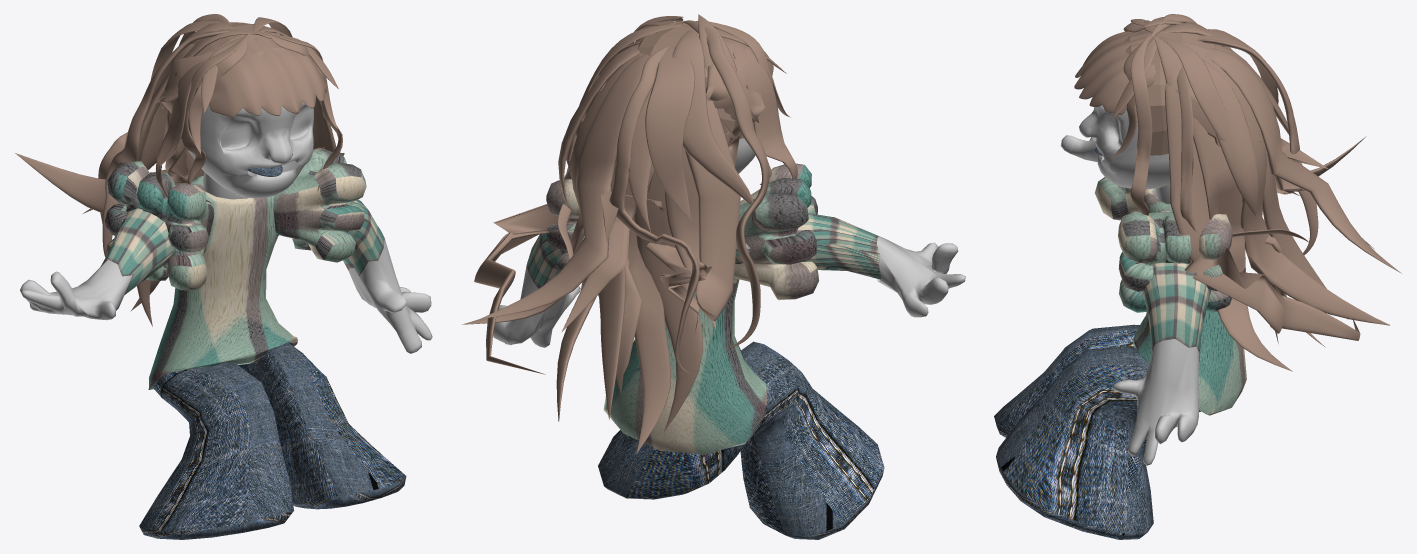
Rendered from baked character 1 animation.fbx.
3 renders of one model, left to right at view 1: azimuth 30°, elevation 25°; view 2: azimuth 150°, elevation 25°; view 3: azimuth 270°, elevation 25°, orthographic. The views are drawn at different scales.
Visible parts, largest first — view 1: whole_body__wig_cap; view 2: whole_body__wig_cap; view 3: whole_body__wig_cap.
Boxes of the visible parts, x1=… form: whole_body__wig_cap: x1=15, y1=14, x2=432, y2=539; whole_body__wig_cap: x1=461, y1=14, x2=965, y2=539; whole_body__wig_cap: x1=994, y1=14, x2=1401, y2=539.
Bounding box in the file's own units: 11.07 × 11.69 × 9.19.
